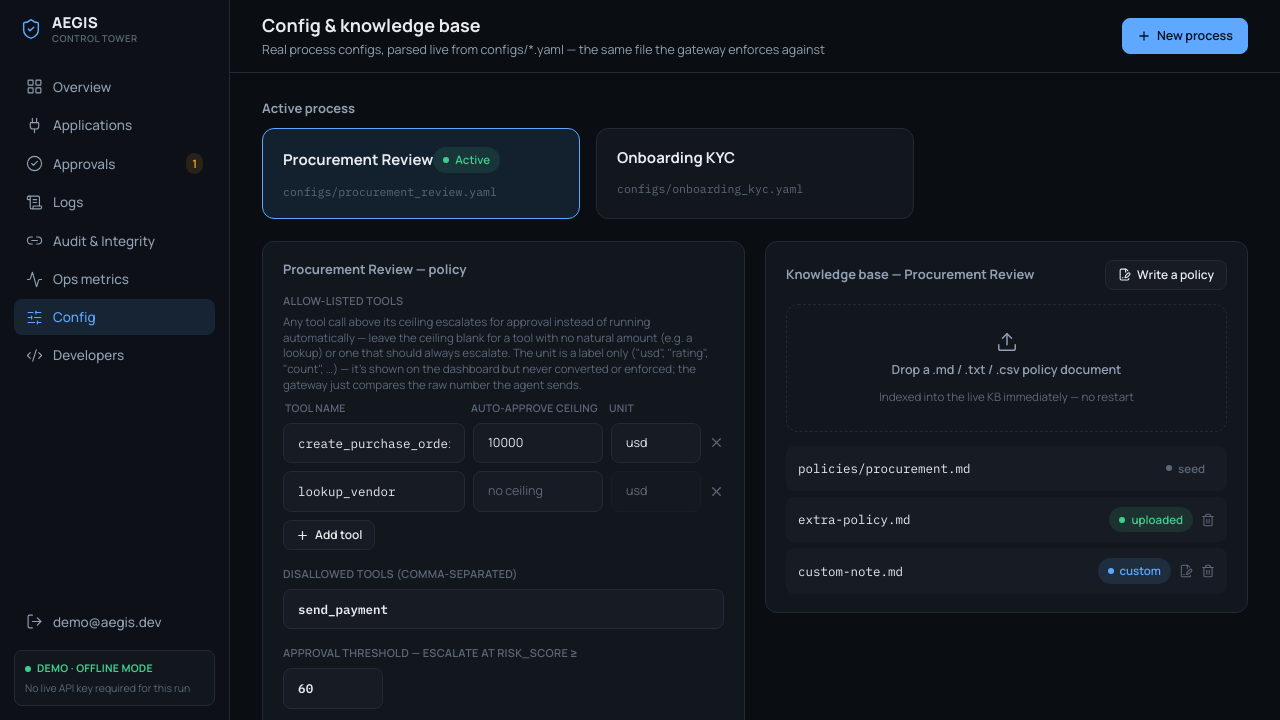
Test: ConfigPage › edits an existing custom policy in place
Expected: the text "custom-note.md" is shown, [798, 562, 903, 580]
Click the button named "Edit custom-note.md": (1186, 571) [1179, 564, 1193, 578]
(page scrolled)
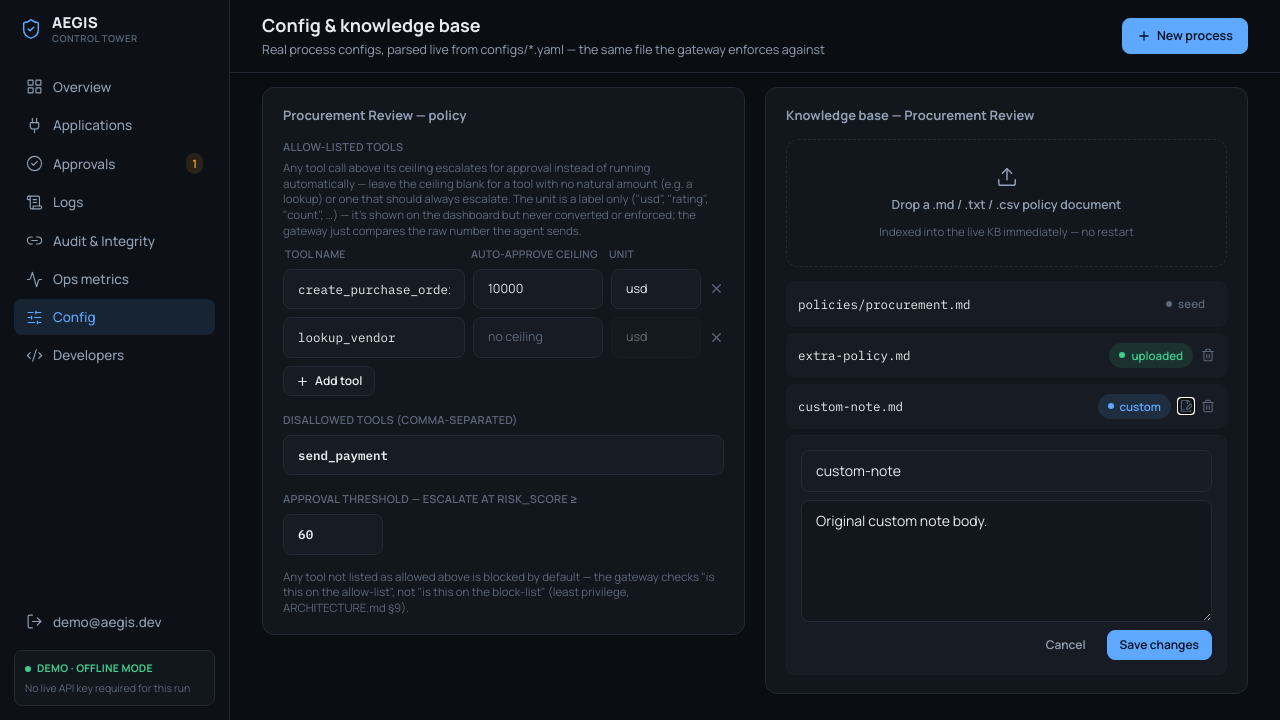
Now the text box showing "Original custom note body." is shown
Replace the text in the text box showing "Original custom note body." with "Updated custom note body.": (1006, 561) [801, 500, 1212, 622]
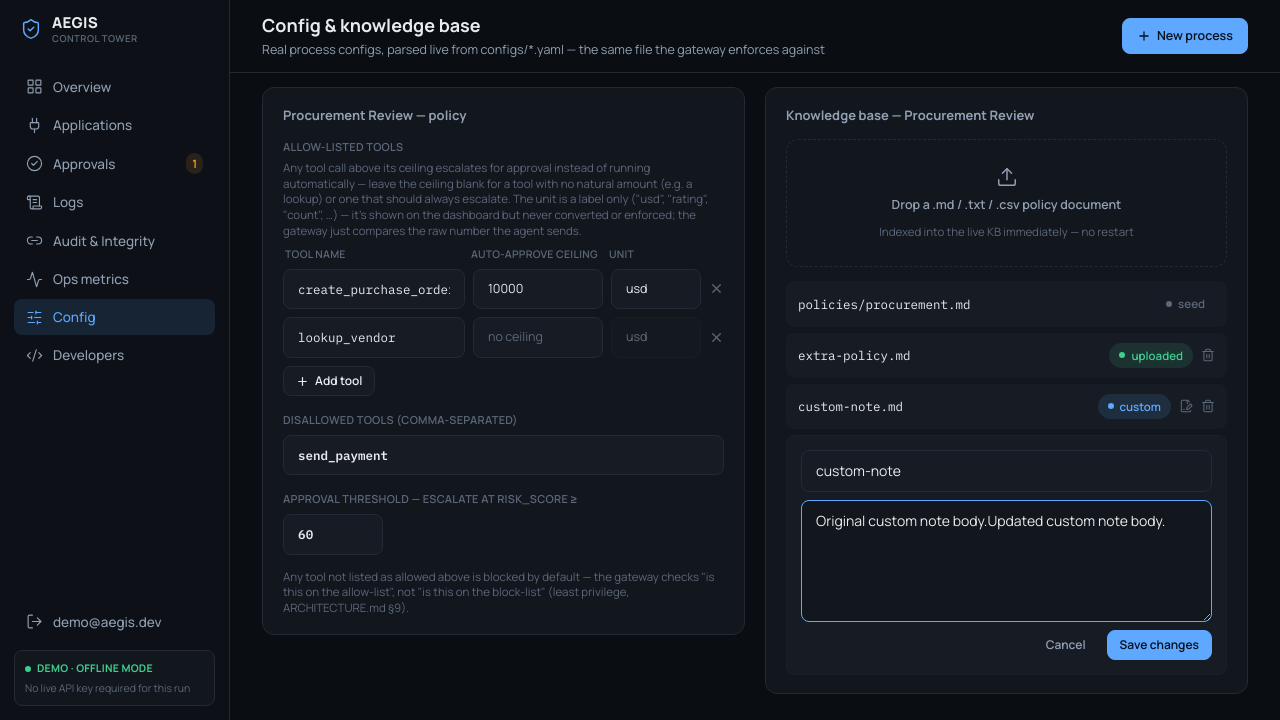
Click the button "Save changes": (1159, 645) [1107, 630, 1212, 660]
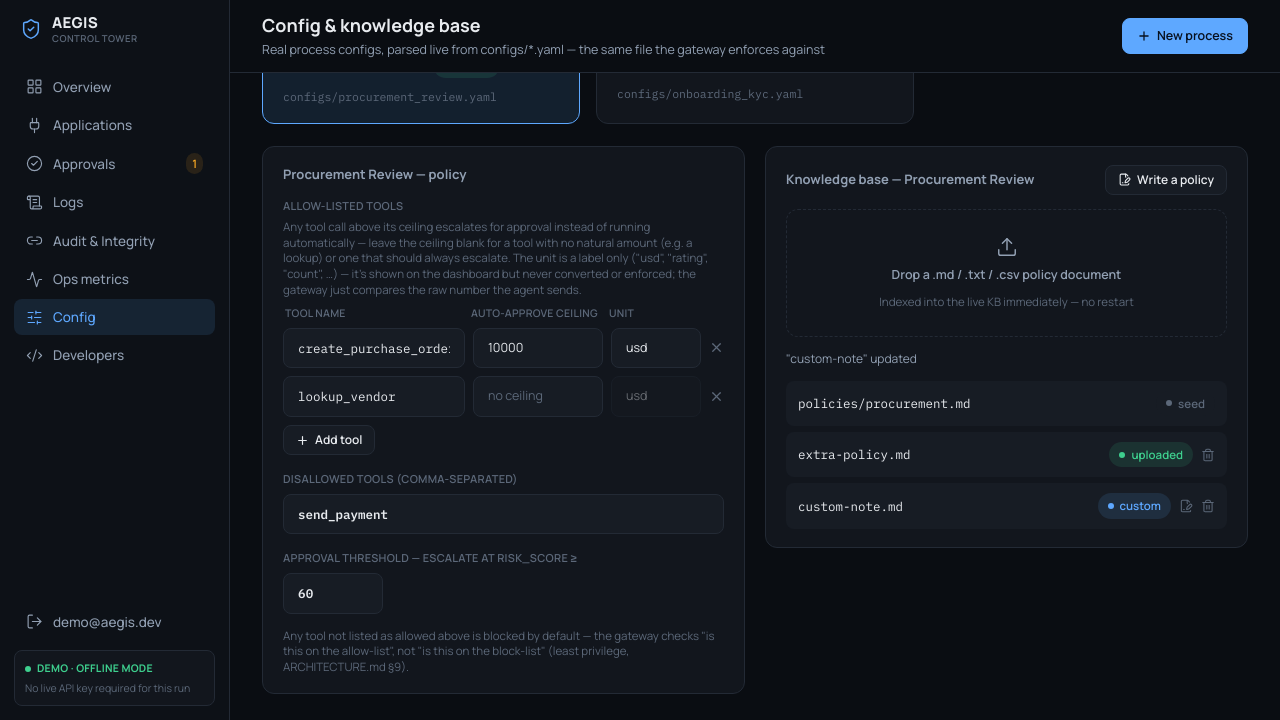
Now the text "\"custom-note\" updated" is shown, box [786, 350, 917, 367]
